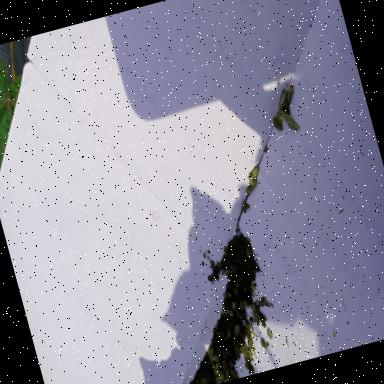pbw: (275, 87, 292, 111), (284, 110, 302, 132), (246, 165, 264, 186), (282, 83, 298, 105), (243, 178, 260, 196), (246, 322, 258, 340)
